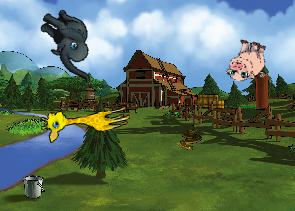elephant: (25, 3, 112, 84)
giraffe: (38, 94, 132, 144)
pig: (224, 36, 270, 85)
